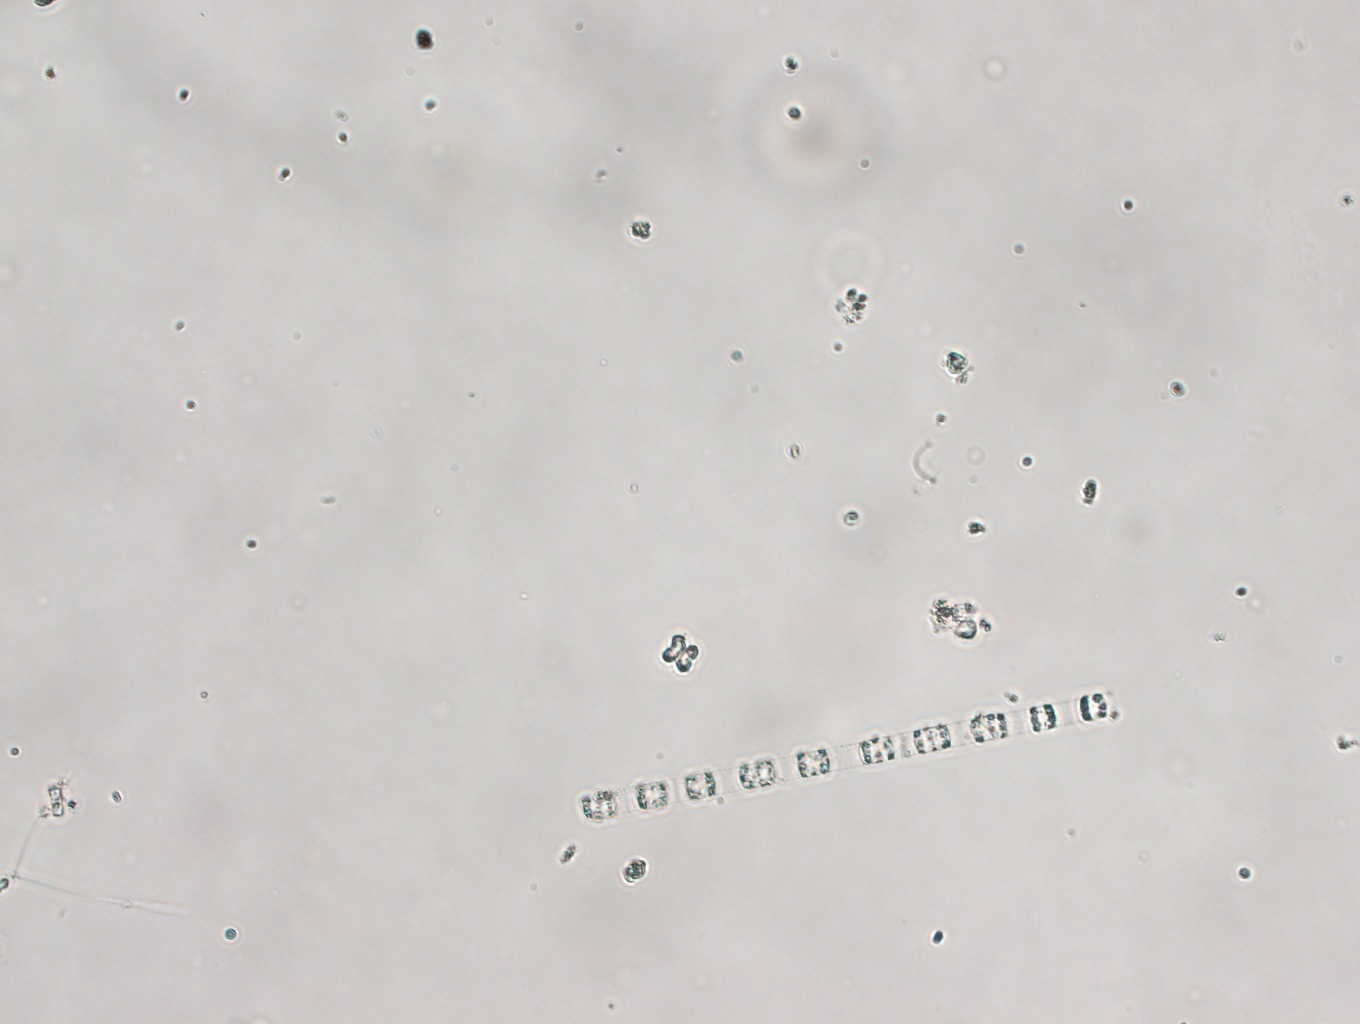skeletonema: (569, 680, 1123, 844)
